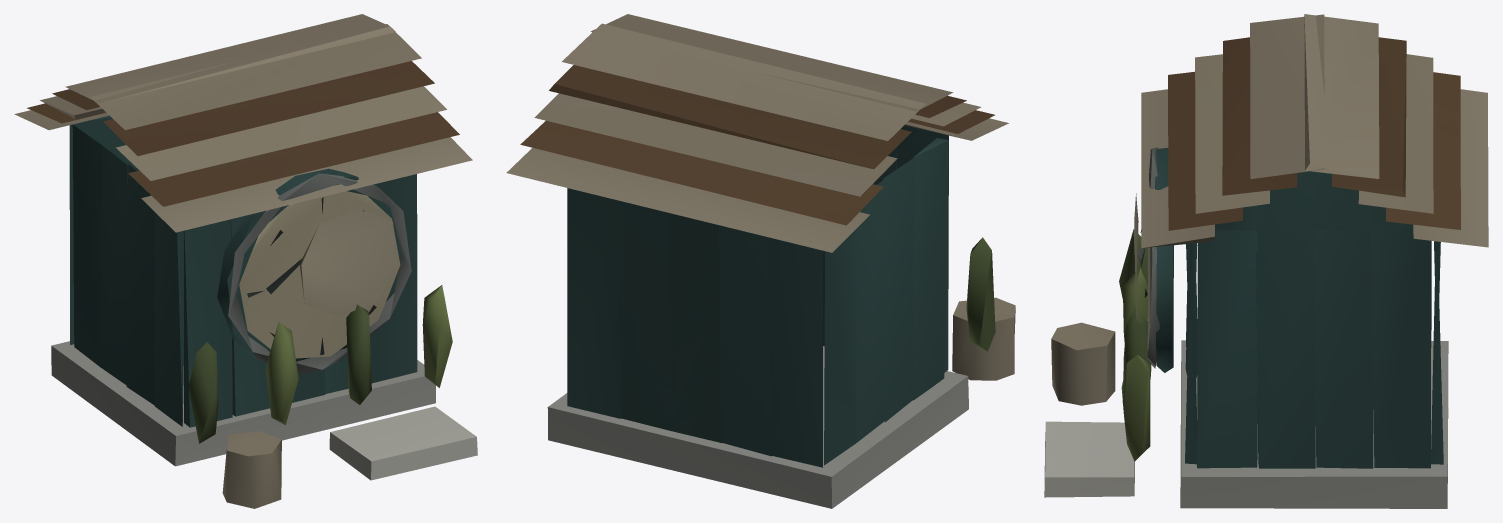
The model's file is gauge_dial_shed_c_lod2.glb.
The picture shows the model from 3 angles, left to right: view 1: azimuth 30°, elevation 25°; view 2: azimuth 150°, elevation 25°; view 3: azimuth 270°, elevation 25°; orthographic projection. The views are drawn at different scales.
Parts seen in each view (by area): view 1: Surface.001; view 2: Surface.001; view 3: Surface.001.
Boxes of the visible parts, x1,y1,x2,y2 form: Surface.001: (14,14,477,508); Surface.001: (506,14,1015,508); Surface.001: (1044,14,1488,508).
Size of the model in its own units: 2.71 by 2.88 by 3.26.
